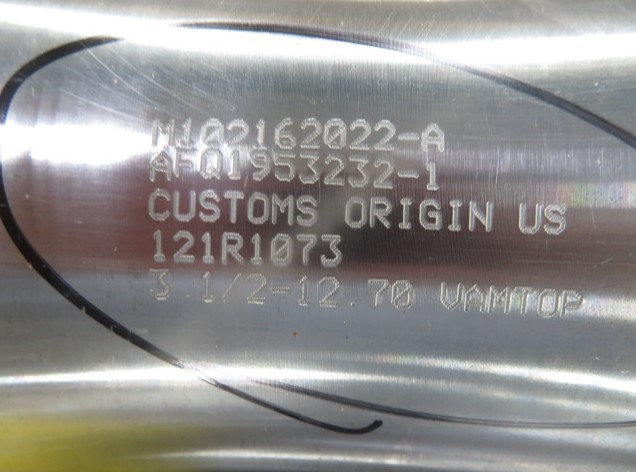character: (542, 197, 575, 237), (168, 227, 200, 264), (418, 196, 448, 235), (143, 266, 176, 301), (369, 191, 397, 232), (419, 118, 450, 155), (219, 228, 249, 266), (264, 232, 294, 270), (467, 196, 496, 235), (319, 231, 347, 270), (515, 197, 542, 237), (197, 148, 227, 184), (313, 273, 343, 308), (245, 188, 271, 228), (145, 116, 176, 149), (389, 278, 418, 313), (244, 269, 270, 308), (271, 188, 295, 230), (295, 192, 322, 229), (145, 186, 172, 223), (171, 186, 197, 224), (486, 280, 512, 318), (560, 289, 590, 321), (245, 148, 273, 182), (298, 113, 323, 151), (344, 194, 369, 232), (222, 187, 245, 228), (320, 151, 346, 187), (346, 151, 370, 190), (397, 191, 418, 235), (145, 224, 168, 264), (198, 187, 222, 225), (536, 283, 560, 321), (370, 155, 396, 190), (273, 113, 298, 149), (348, 117, 373, 153), (294, 232, 319, 268), (438, 279, 462, 316), (198, 113, 224, 147), (148, 149, 174, 183), (462, 281, 487, 316), (422, 156, 445, 194), (220, 270, 244, 306), (366, 276, 389, 313), (323, 117, 348, 151), (373, 118, 397, 153), (513, 283, 536, 319), (298, 150, 320, 187), (174, 148, 197, 183), (273, 150, 298, 182), (176, 113, 198, 149), (226, 116, 250, 149), (250, 114, 272, 150), (200, 227, 219, 268), (448, 196, 467, 235), (294, 273, 314, 309), (225, 148, 245, 182), (200, 269, 218, 305), (249, 229, 264, 270), (267, 282, 292, 299), (396, 165, 421, 182), (397, 128, 420, 144), (348, 299, 359, 311), (183, 292, 192, 302)
